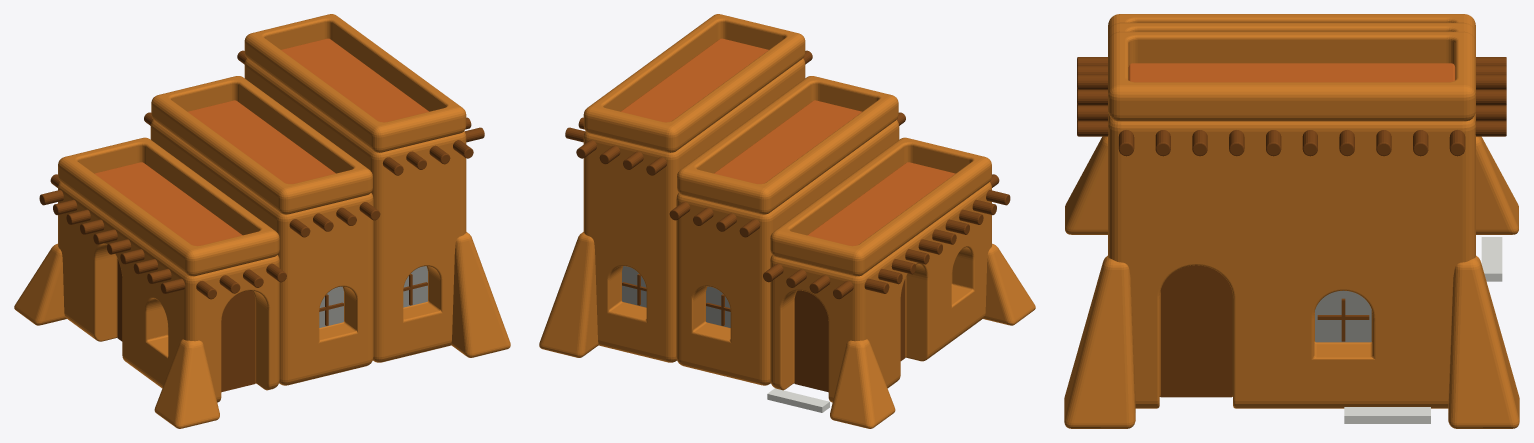
The model's file is openscad_miniature-brick-lumber-house_L5_Q1__gpt61_sol.glb.
3 views of the same model, side by side, from view 1: azimuth 30°, elevation 25°; view 2: azimuth 150°, elevation 25°; view 3: azimuth 270°, elevation 25° (orthographic). The views are drawn at different scales.
Visible parts, largest first — view 1: object; view 2: object; view 3: object.
Boxes of the visible parts, x1,y1,x2,y2 form: object: (14,14,510,428); object: (539,14,1035,428); object: (1064,14,1519,428).
Size of the model in its own units: 718 by 484 by 619.
